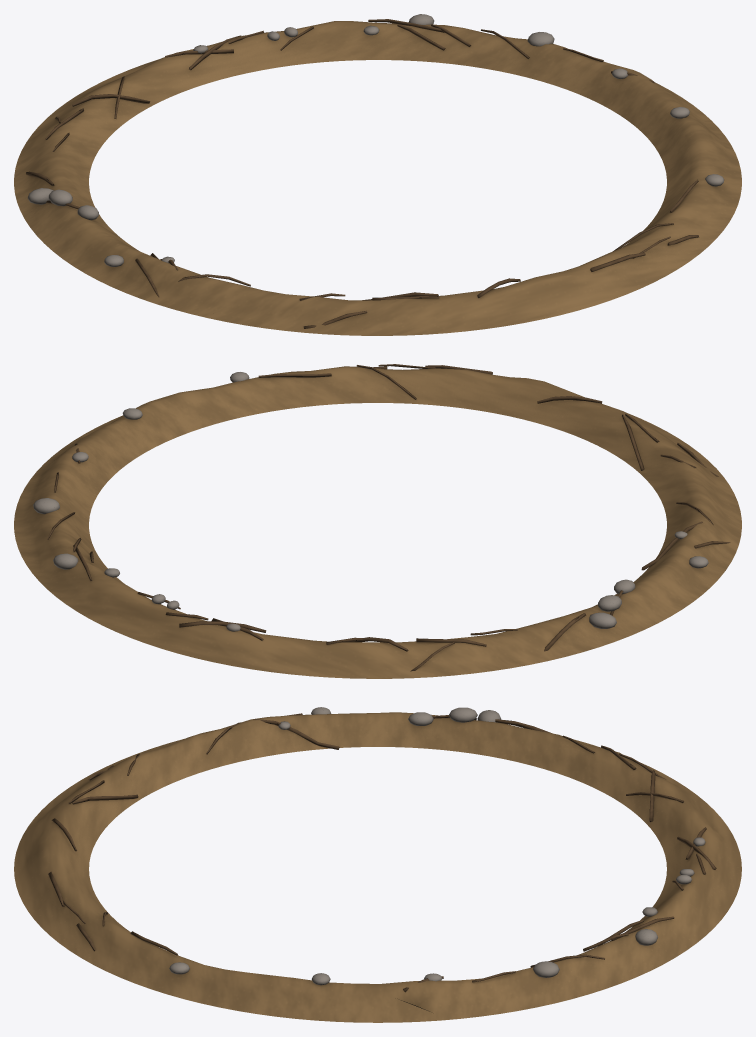
The model's file is creature_nest_ring.glb.
3 views of the same model, one above another, from view 1: azimuth 30°, elevation 25°; view 2: azimuth 150°, elevation 25°; view 3: azimuth 270°, elevation 25° (orthographic).
Parts seen in each view (by area): view 1: CreatureNestRing; view 2: CreatureNestRing; view 3: CreatureNestRing.
Part boxes in pixels (<box>): CreatureNestRing: <box>14,14,741,335</box>; CreatureNestRing: <box>14,364,741,678</box>; CreatureNestRing: <box>14,707,741,1022</box>.
Bounding box in the file's own units: 13.1 × 0.5637 × 13.1.
3 materials, 3 textured.
